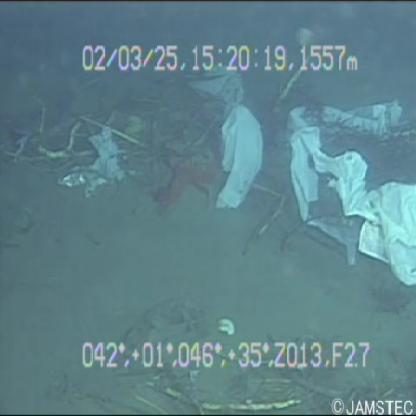Rác: (280, 91, 415, 298), (173, 69, 263, 221)
